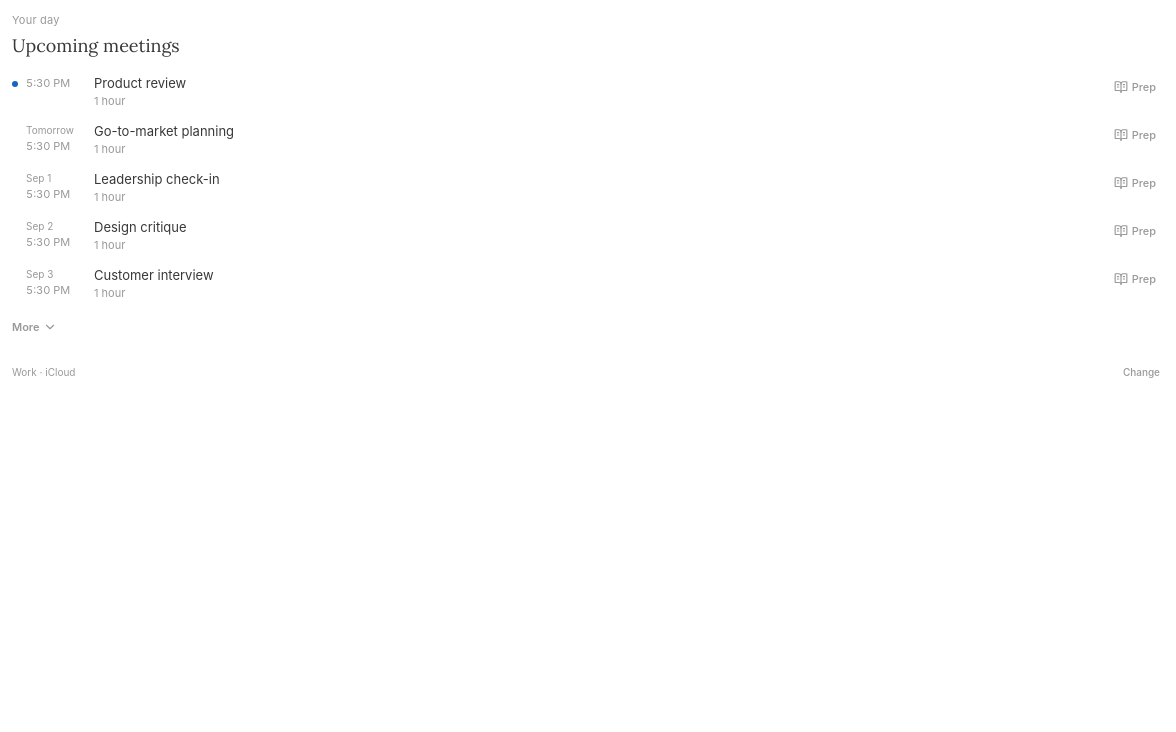
Test: UpcomingMeetings › caps the expanded agenda at eight meetings (large layout: true)
Later steps or results of the test are not shown.
Step 1. Click the button with aria-label "Show 3 more meetings" → {"x": 35, "y": 327}, box [12,309,58,345]
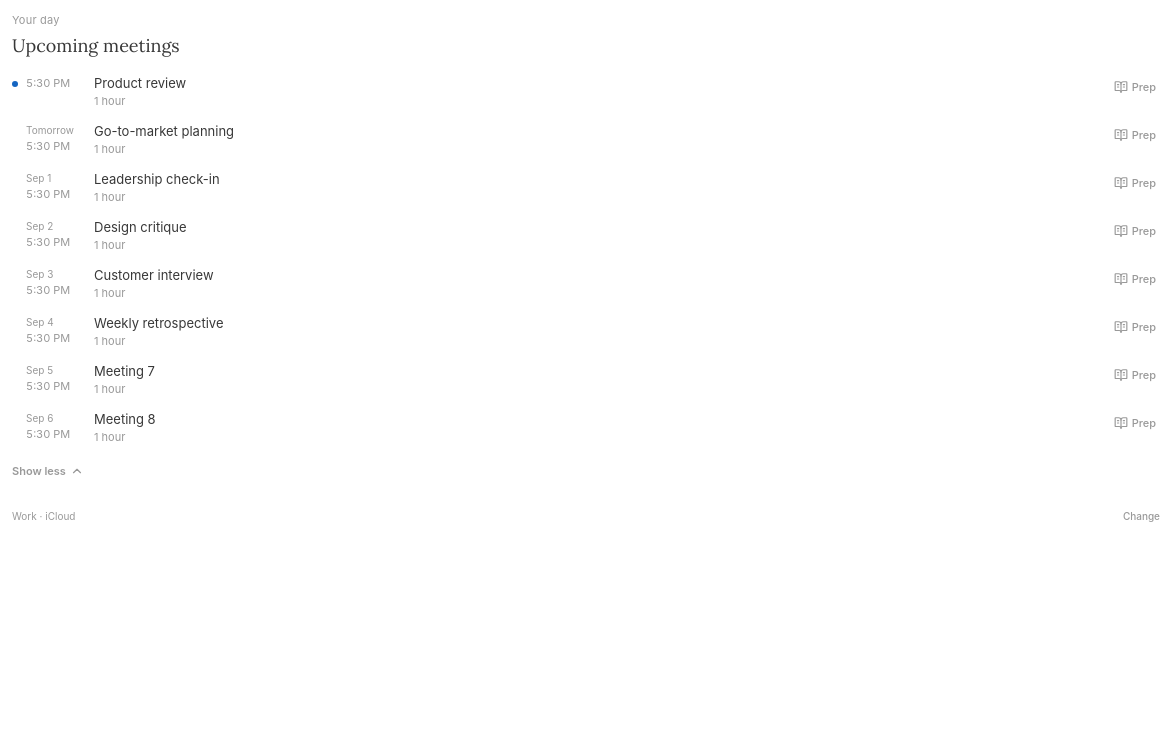
Now the number of elements with test id "upcoming-meeting-row" is 8
Now the element with test id "upcoming-meeting-row" shows "Meeting 8", box [94,409,156,429]
